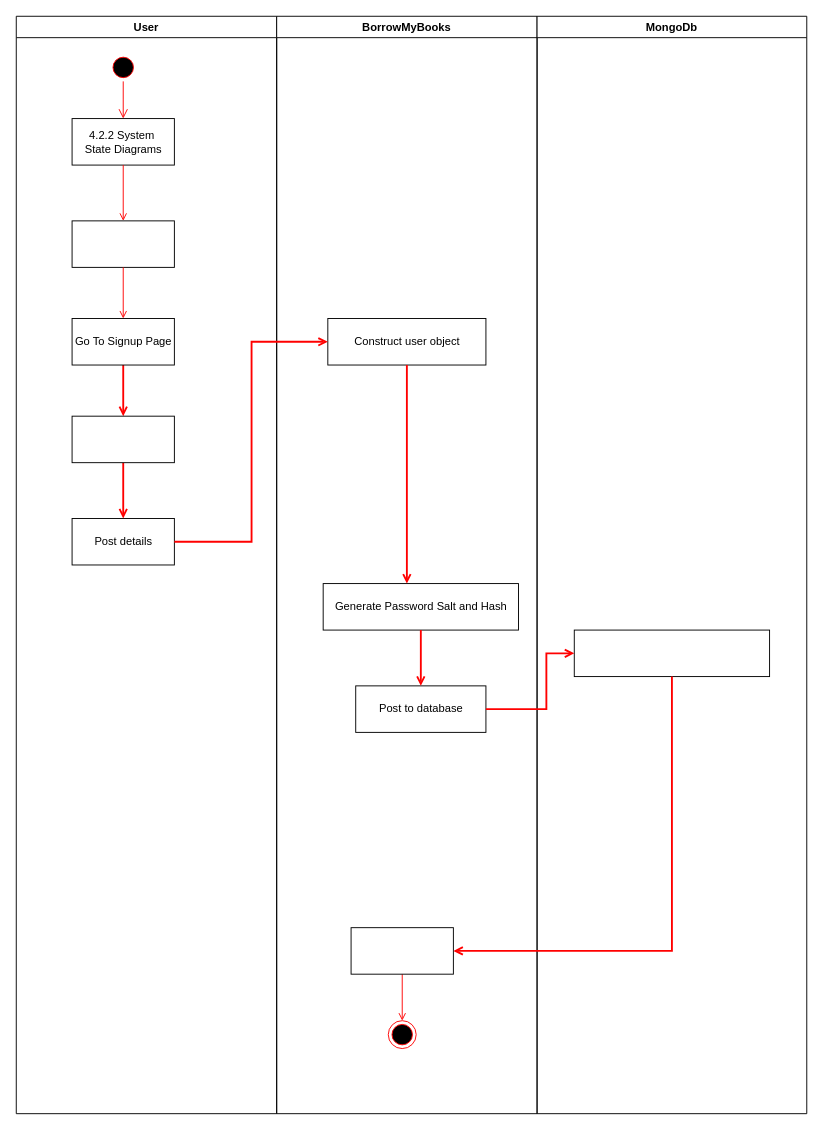
The diagram is 823 pixels wide and 1130 high, and some of its shapes have lost their labels. The shapes that lost their labels are listed below. From the top down, each one's centre as x and y in pixels, then its label:
At [122,243]: "Go To Login Page".
At [122,439]: "Fill in details".
At [671,653]: "Generate db document of user object".
At [401,950]: "Authorise User".
